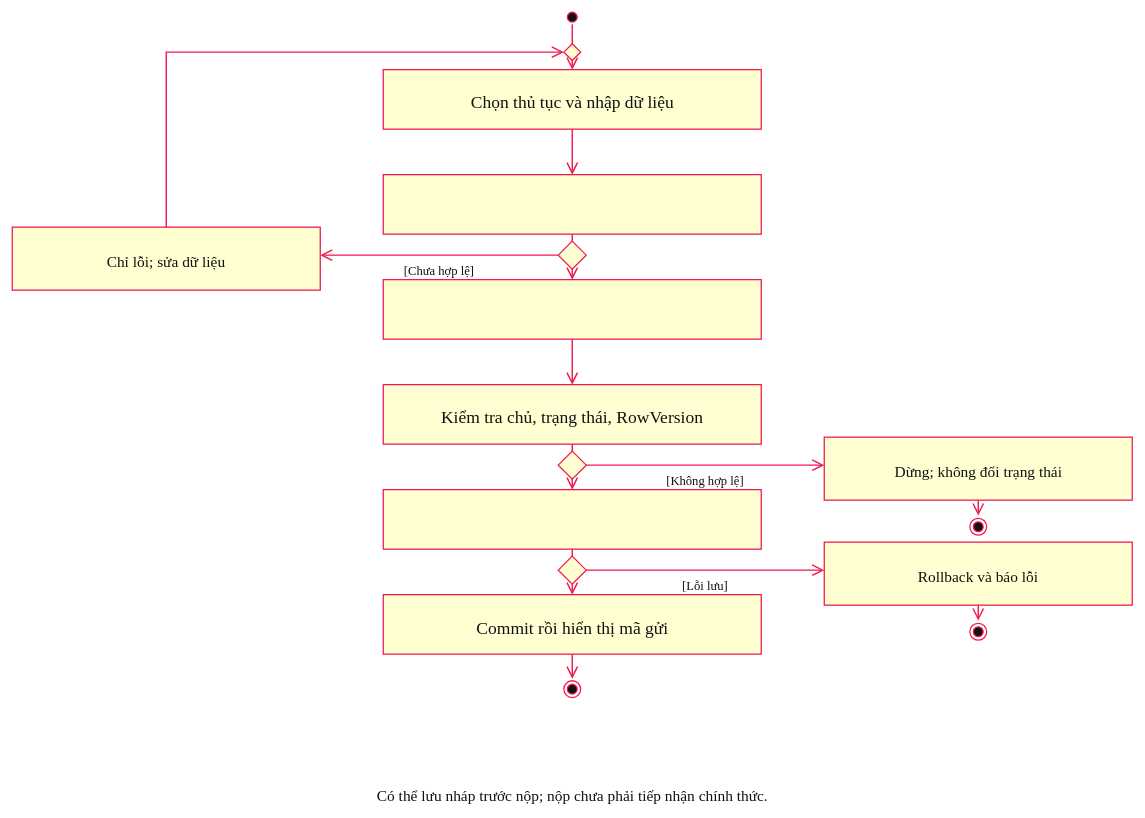
The diagram is 1145 pixels wide and 818 high, and some of its shapes have lost their labels. Each missing label, with the box of its shape:
Kiểm tra thông tin và tệp: (382, 174, 762, 234)
Người dân xác nhận nộp: (382, 279, 762, 339)
TX lưu hồ sơ, tài liệu và lịch sử: (382, 489, 762, 549)
